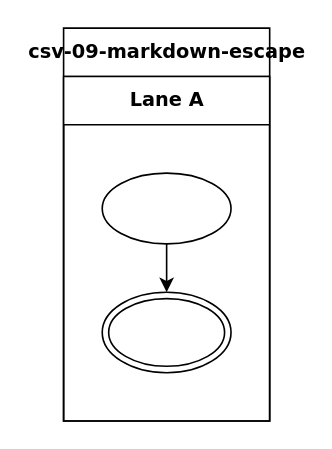
Some shapes in this 332 by 449 pixel diagram are drawn without their labels. The centre of each missing label's shape, as x and y in pixels:
"a \| b" belongs at point (166, 207).
"Xong" belongs at point (166, 332).
